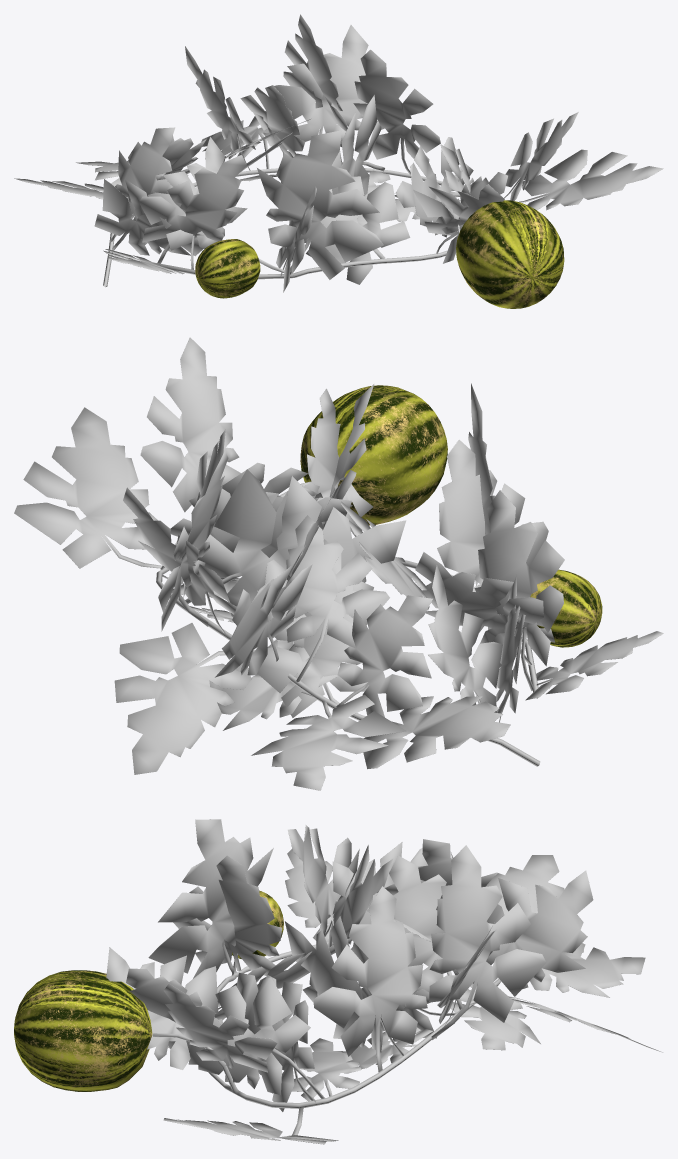
Rendered from Melon.fbx.
3 views of the same model, one above another, from view 1: azimuth 30°, elevation 25°; view 2: azimuth 150°, elevation 25°; view 3: azimuth 270°, elevation 25° (orthographic). The views are drawn at different scales.
Parts seen in each view (by area): view 1: BUSH, WATERMELON.001, WATERMELON; view 2: BUSH, WATERMELON.001, WATERMELON; view 3: BUSH, WATERMELON.001, WATERMELON.
Boxes of the visible parts, x1,y1,x2,y2 form: BUSH: (14,14,663,292); WATERMELON.001: (456,200,564,308); WATERMELON: (195,239,260,298); BUSH: (14,337,663,790); WATERMELON.001: (300,385,447,525); WATERMELON: (530,569,602,647); BUSH: (106,819,662,1144); WATERMELON.001: (14,970,152,1091); WATERMELON: (232,890,283,958).
Bounding box in the file's own units: 190 × 74.48 × 181.
